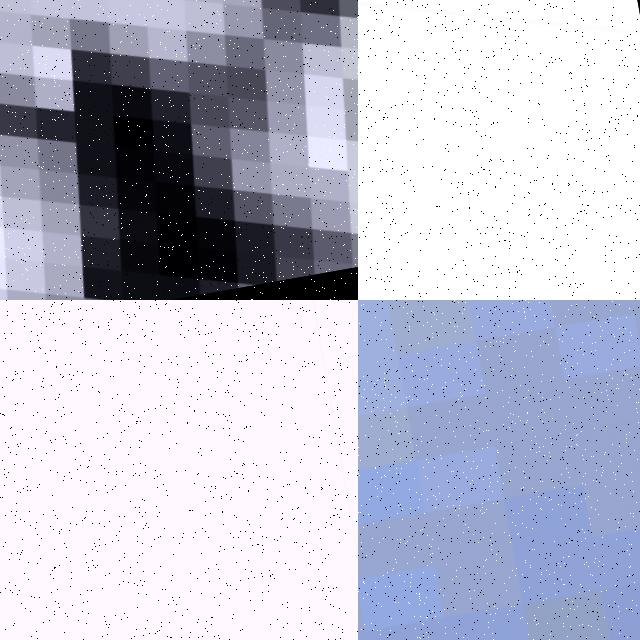drone: (0, 0, 358, 300), (358, 0, 640, 300)
